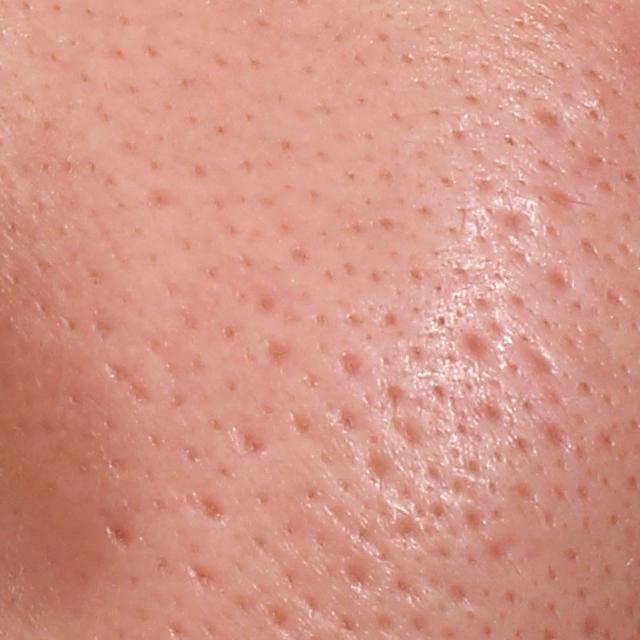atrophic_scar: (512, 332, 566, 388), (104, 360, 158, 409), (481, 202, 541, 246), (96, 508, 140, 556), (451, 321, 499, 364), (186, 486, 232, 528), (342, 557, 382, 600), (230, 426, 273, 459), (537, 417, 573, 453), (187, 557, 222, 592), (539, 260, 578, 288)
